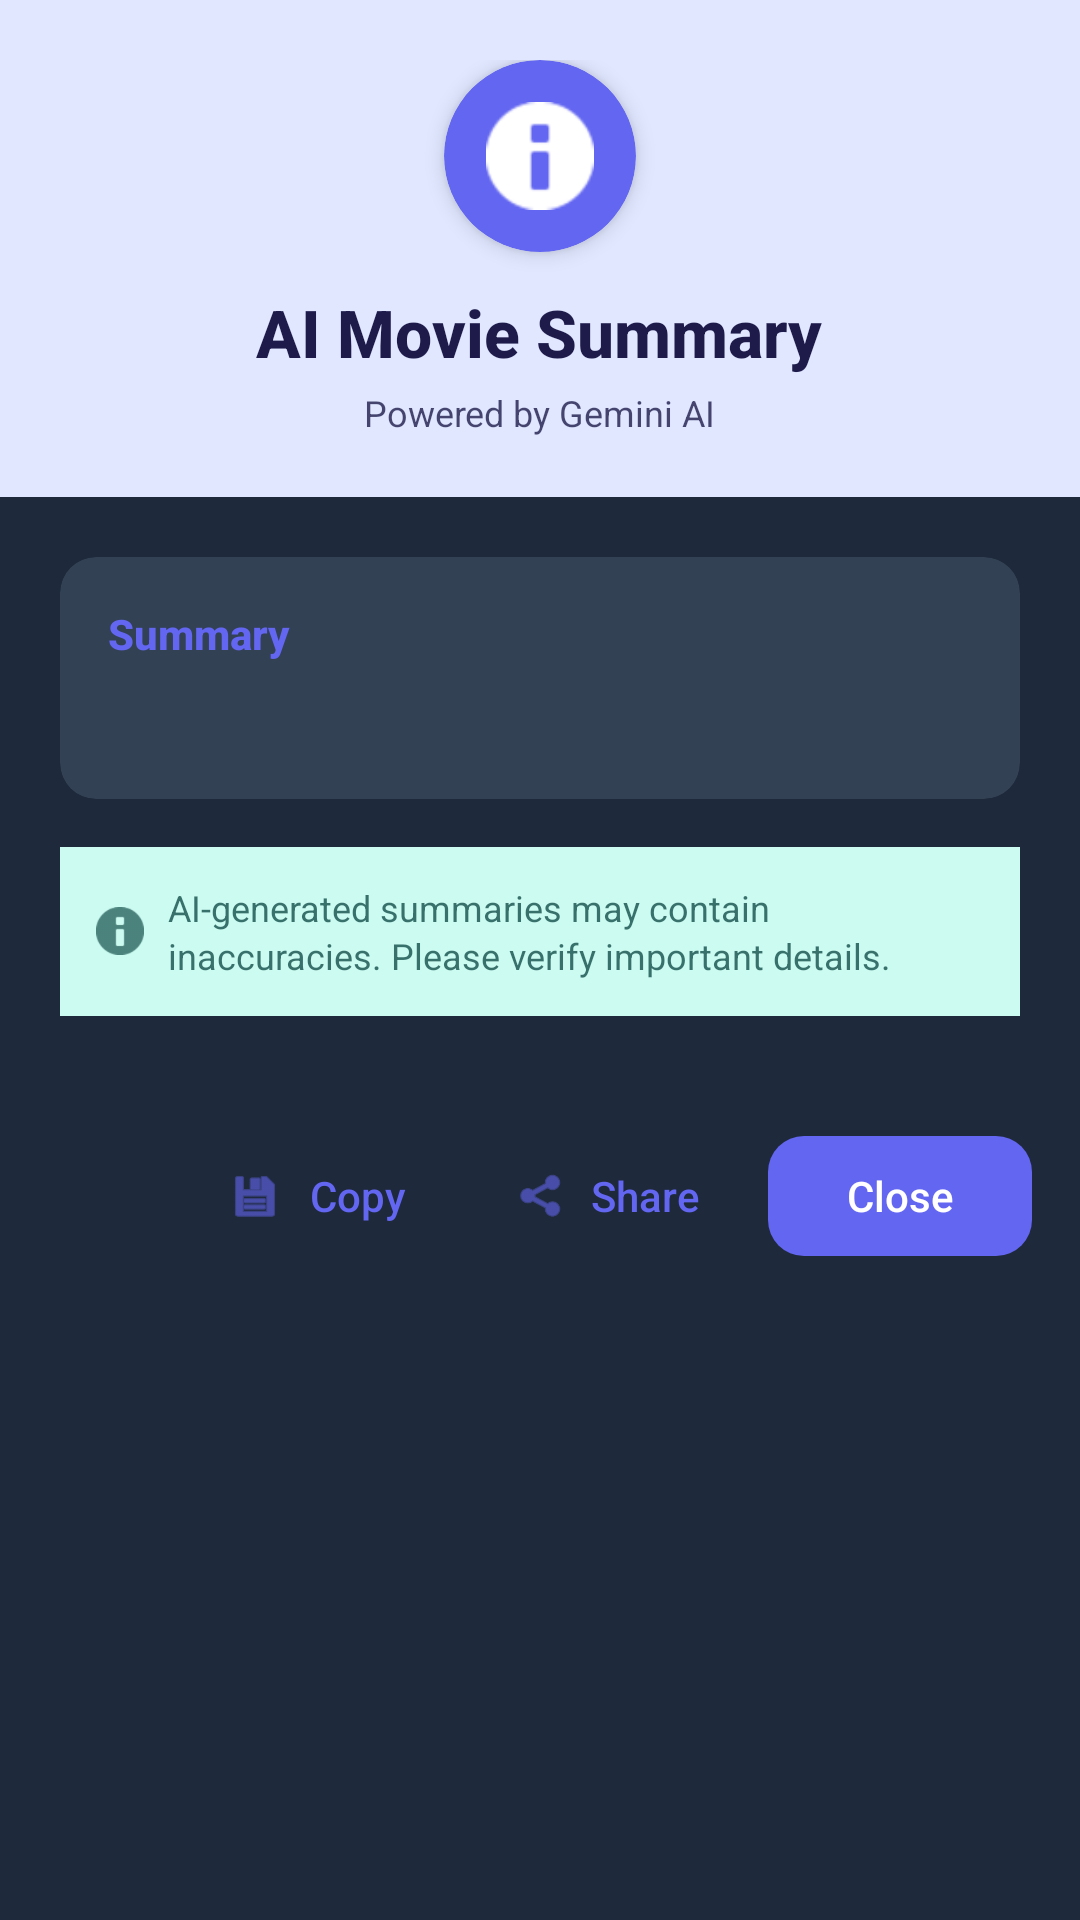

Icons on this 1080 x 1920 Android screen, each with its box as bbox=(x1, y1, x2, y2):
Info: bbox=(96, 907, 144, 955)
